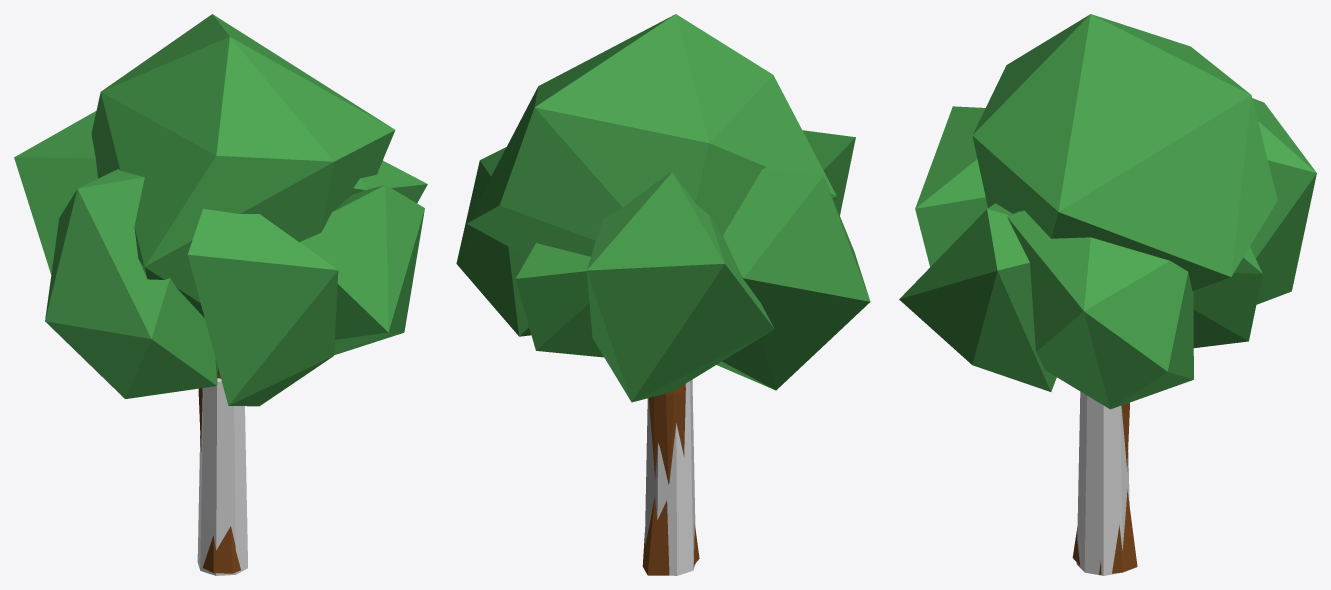
The model's file is floresta_tree_simple_small.glb.
The picture shows the model from 3 angles, left to right: view 1: azimuth 30°, elevation 25°; view 2: azimuth 150°, elevation 25°; view 3: azimuth 270°, elevation 25°; orthographic projection. The views are drawn at different scales.
Visible parts, largest first — view 1: Simple tree small f, Colisao; view 2: Simple tree small f, Colisao; view 3: Simple tree small f, Colisao.
Part boxes in pixels (x1,y1,x2,y2): Simple tree small f: (14, 14, 427, 573); Colisao: (197, 378, 247, 575); Simple tree small f: (456, 14, 870, 575); Colisao: (644, 379, 695, 575); Simple tree small f: (899, 14, 1316, 574); Colisao: (1076, 391, 1129, 575).
Bounding box in the file's own units: 6.24 × 8.31 × 5.72.
